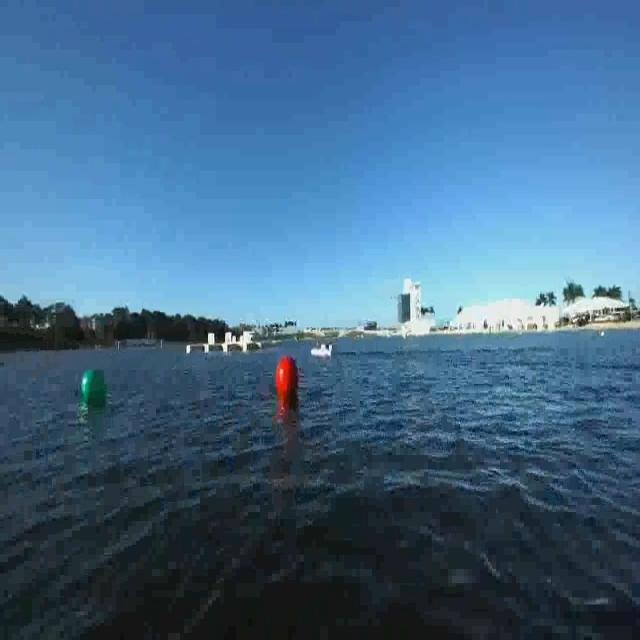green-buoy: (79, 366, 109, 410)
red-buoy: (277, 354, 299, 395)
